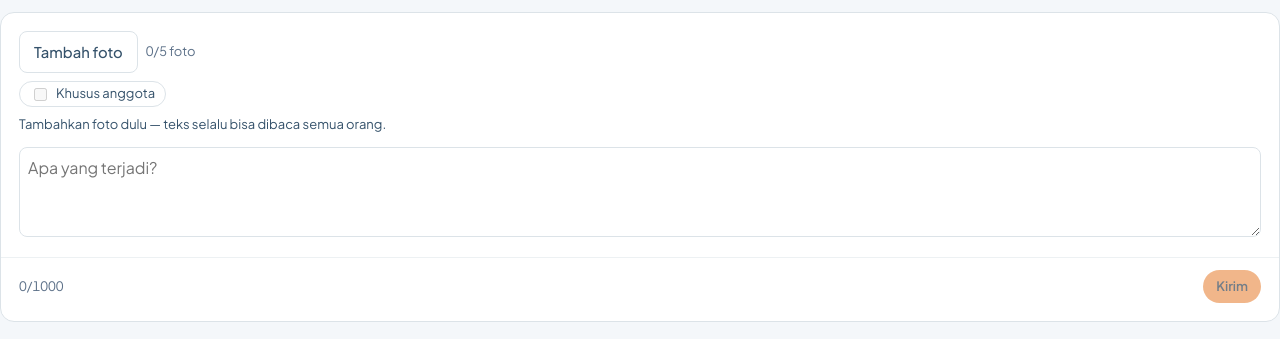
Test: PostComposer — the limit is bounded twice › counts the TRIMMED length, matching what the server validates
Type "   halo   " into the text box labelled "Apa yang terjadi?" at [640, 192], box [19, 147, 1261, 237]
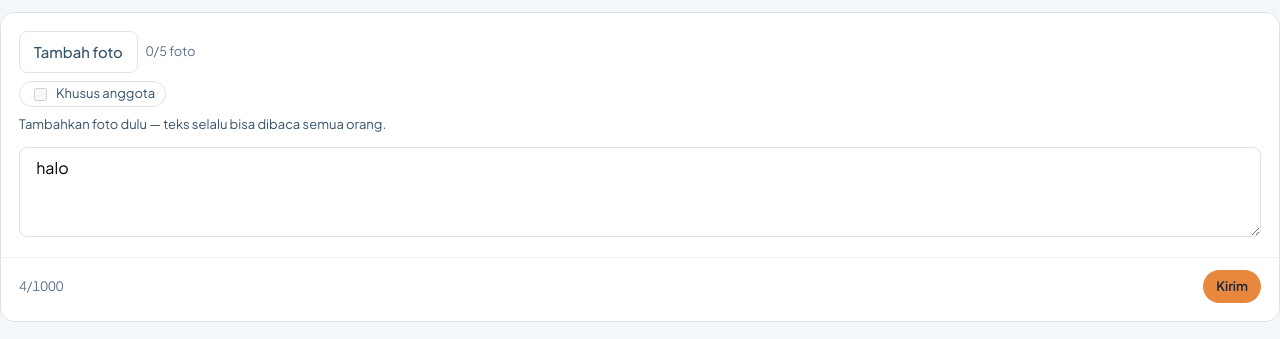
Result: the text "4/1000" is shown at [19, 277, 64, 296]
